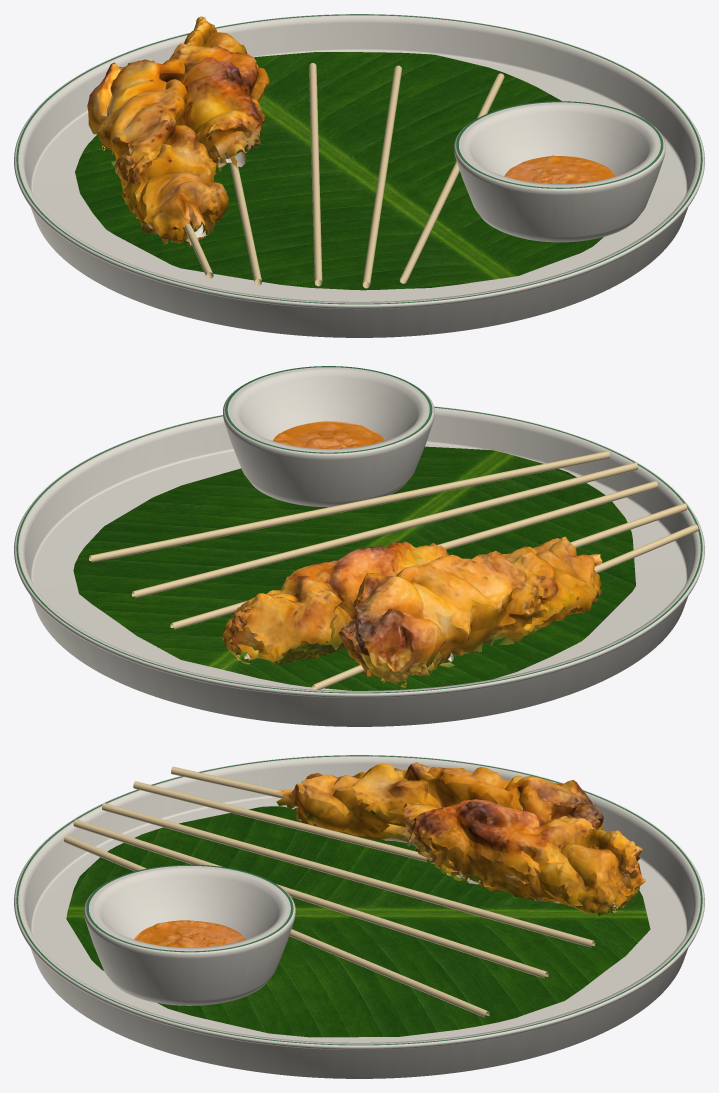
Rendered from satay-2.glb.
3 views of the same model, one above another, from view 1: azimuth 30°, elevation 25°; view 2: azimuth 150°, elevation 25°; view 3: azimuth 270°, elevation 25° (orthographic).
Visible parts, largest first — view 1: support/regular-closed-plate, canonical/continuous-leaf-repair, food/independent-stage-2, support/regular-satay-cup, edible/local-sauce-level-2, canonical/skewer-core-4, canonical/skewer-core-3, canonical/skewer-core-5, canonical/skewer-core-2; view 2: support/regular-closed-plate, canonical/continuous-leaf-repair, food/independent-stage-2, support/regular-satay-cup, canonical/skewer-core-5, canonical/skewer-core-4, canonical/skewer-core-3, edible/local-sauce-level-2, canonical/skewer-core-1, canonical/skewer-core-2; view 3: canonical/continuous-leaf-repair, support/regular-closed-plate, food/independent-stage-2, support/regular-satay-cup, canonical/skewer-core-3, canonical/skewer-core-4, canonical/skewer-core-2, canonical/skewer-core-5, edible/local-sauce-level-2, canonical/skewer-core-1.
Boxes of the visible parts, bbox=[...] form: support/regular-closed-plate: bbox=[14, 14, 704, 337]; canonical/continuous-leaf-repair: bbox=[75, 52, 603, 290]; food/independent-stage-2: bbox=[87, 16, 269, 247]; support/regular-satay-cup: bbox=[454, 101, 665, 242]; edible/local-sauce-level-2: bbox=[504, 155, 614, 183]; canonical/skewer-core-4: bbox=[362, 65, 401, 288]; canonical/skewer-core-3: bbox=[309, 63, 322, 286]; canonical/skewer-core-5: bbox=[399, 73, 504, 283]; canonical/skewer-core-2: bbox=[229, 163, 261, 285]; support/regular-closed-plate: bbox=[14, 406, 704, 726]; canonical/continuous-leaf-repair: bbox=[73, 446, 635, 690]; food/independent-stage-2: bbox=[221, 536, 602, 687]; support/regular-satay-cup: bbox=[223, 366, 434, 507]; canonical/skewer-core-5: bbox=[89, 451, 609, 562]; canonical/skewer-core-4: bbox=[132, 462, 638, 598]; canonical/skewer-core-3: bbox=[170, 481, 657, 629]; edible/local-sauce-level-2: bbox=[272, 421, 384, 448]; canonical/skewer-core-1: bbox=[311, 524, 698, 689]; canonical/skewer-core-2: bbox=[244, 503, 687, 660]; canonical/continuous-leaf-repair: bbox=[66, 806, 650, 1037]; support/regular-closed-plate: bbox=[14, 755, 704, 1078]; food/independent-stage-2: bbox=[275, 762, 645, 916]; support/regular-satay-cup: bbox=[84, 864, 295, 1005]; canonical/skewer-core-3: bbox=[102, 803, 595, 947]; canonical/skewer-core-4: bbox=[73, 819, 548, 978]; canonical/skewer-core-2: bbox=[133, 781, 615, 908]; canonical/skewer-core-5: bbox=[64, 835, 489, 1017]; edible/local-sauce-level-2: bbox=[134, 920, 245, 947]; canonical/skewer-core-1: bbox=[171, 766, 282, 798].
Bounding box in the file's own units: 2.88 × 0.4905 × 2.88.
6 materials, 3 textured.
